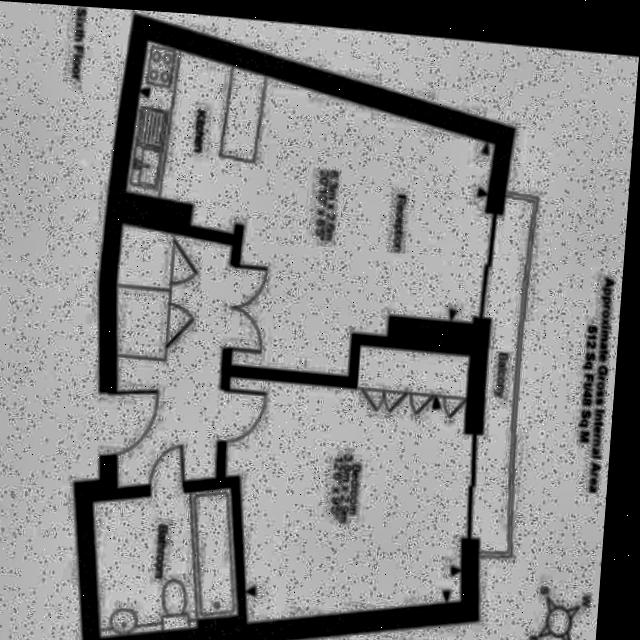room: (222, 72, 500, 391), (219, 330, 496, 620), (103, 222, 234, 496), (124, 37, 253, 231), (92, 485, 239, 636)
